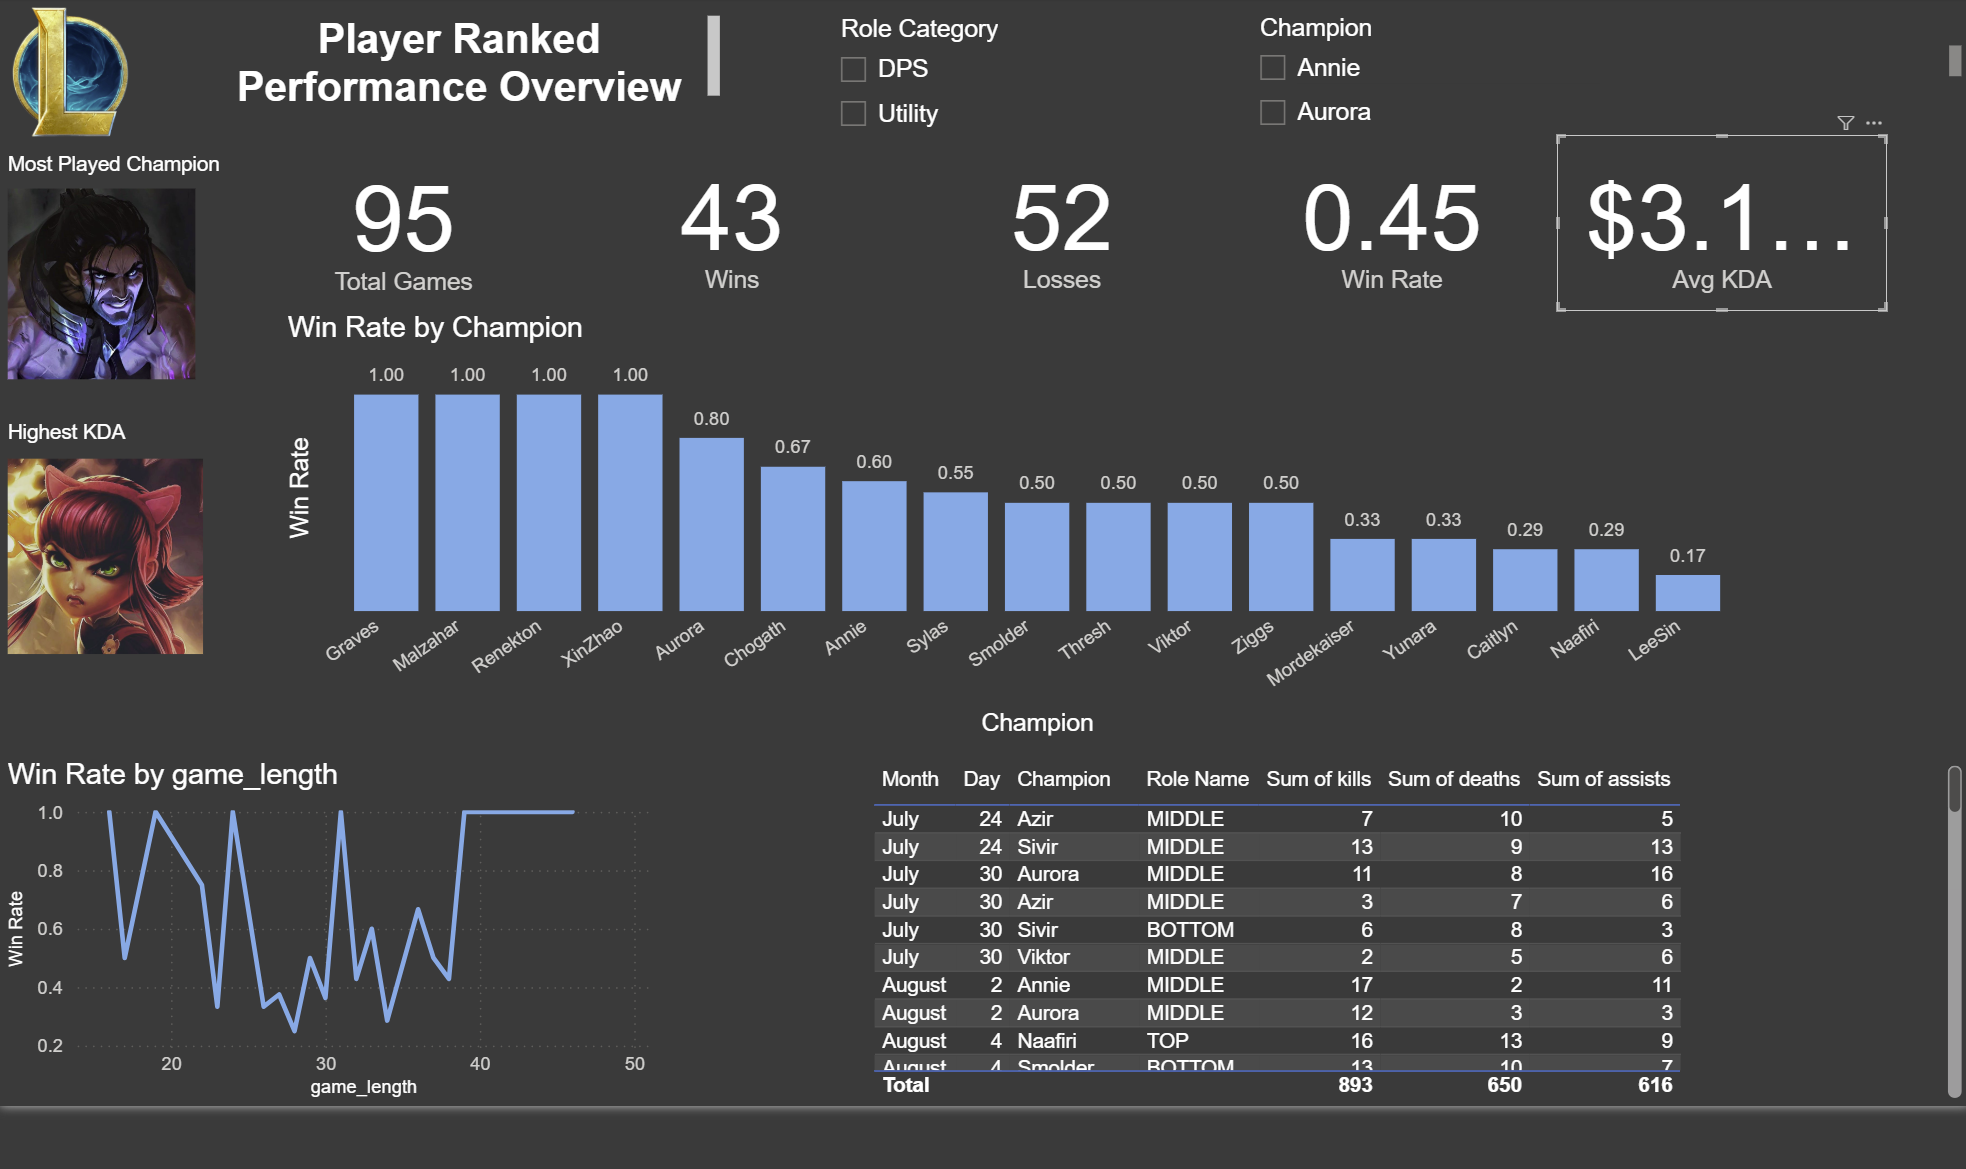

The dashboard page shown, as its layout file describes it:
{"tool":"powerbi","page":{"name":"Page 1","canvas":[1280,720],"ordinal":0},"visuals":[{"type":"slicer","fields":{"Values":["Role.Role Category"]},"box":[533.7,6.5,213.2,89.1],"z":0},{"type":"slicer","fields":{"Values":["Sheet1.Champion"]},"box":[806.1,5.9,473.9,89.7],"z":1000},{"type":"card","fields":{"Values":["Role.Total Games"]},"box":[155.7,91.2,212.7,112],"z":2000},{"type":"card","fields":{"Values":["Role.Wins"]},"box":[368.4,89.3,214.6,113.9],"z":3000},{"type":"card","fields":{"Values":["Role.Losses"]},"box":[583,89.3,214.6,113.9],"z":4000},{"type":"card","fields":{"Values":["Role.Win Rate"]},"box":[797.6,89.3,214.6,113.9],"z":5000},{"type":"card","fields":{"Values":["Sheet1.Avg KDA"]},"box":[1012.2,89.3,214.6,113.9],"z":6000},{"type":"clusteredColumnChart","fields":{"Y":["Role.Win Rate"],"Category":["Sheet1.Champion"]},"box":[182.3,203.2,962.8,281.1],"z":7000},{"type":"lineChart","fields":{"Y":["Role.Win Rate"],"Category":["Sheet1.game_length"]},"box":[0,493.8,427.3,226],"z":8000},{"type":"tableEx","fields":{"Values":["Sheet1.date_played.Variation.Date Hierarchy.Month","Sheet1.date_played.Variation.Date Hierarchy.Day","Sheet1.Champion","Role.Role Name","Sum(Sheet1.kills)","Sum(Sheet1.deaths)","Sum(Sheet1.assists)"]},"box":[562.1,493.8,717.9,226],"z":9000},{"type":"textbox","box":[0,95.6,182,26],"z":10000},{"type":"image","box":[0,83.9,132,204.8],"z":11000},{"type":"textbox","box":[0,269.8,97.5,24.7],"z":12000},{"type":"image","box":[0,281.5,137.2,163.8],"z":13000},{"type":"image","box":[0,0,94.3,95.6],"z":14000},{"type":"textbox","box":[132,6.5,340.6,67],"z":14001}]}

Visuals, with their boxes on the page's 1280x720 design canvas (x1, y1, x2, y2). These are canvas units, not pixel positions in the 1966x1169 screenshot, which may show the page scaled, cropped or inside an application window:
slicer - Role.Role Category: x1=534, y1=6, x2=747, y2=96
slicer - Sheet1.Champion: x1=806, y1=6, x2=1280, y2=96
card - Role.Total Games: x1=156, y1=91, x2=368, y2=203
card - Role.Wins: x1=368, y1=89, x2=583, y2=203
card - Role.Losses: x1=583, y1=89, x2=798, y2=203
card - Role.Win Rate: x1=798, y1=89, x2=1012, y2=203
card - Sheet1.Avg KDA: x1=1012, y1=89, x2=1227, y2=203
clusteredColumnChart - Role.Win Rate x Sheet1.Champion: x1=182, y1=203, x2=1145, y2=484
lineChart - Role.Win Rate x Sheet1.game_length: x1=0, y1=494, x2=427, y2=720
tableEx - Sheet1.date_played.Variation.Date Hierarchy.Month x Sheet1.date_played.Variation.Date Hierarchy.Day: x1=562, y1=494, x2=1280, y2=720
textbox: x1=0, y1=96, x2=182, y2=122
image: x1=0, y1=84, x2=132, y2=289
textbox: x1=0, y1=270, x2=98, y2=294
image: x1=0, y1=282, x2=137, y2=445
image: x1=0, y1=0, x2=94, y2=96
textbox: x1=132, y1=6, x2=473, y2=74
